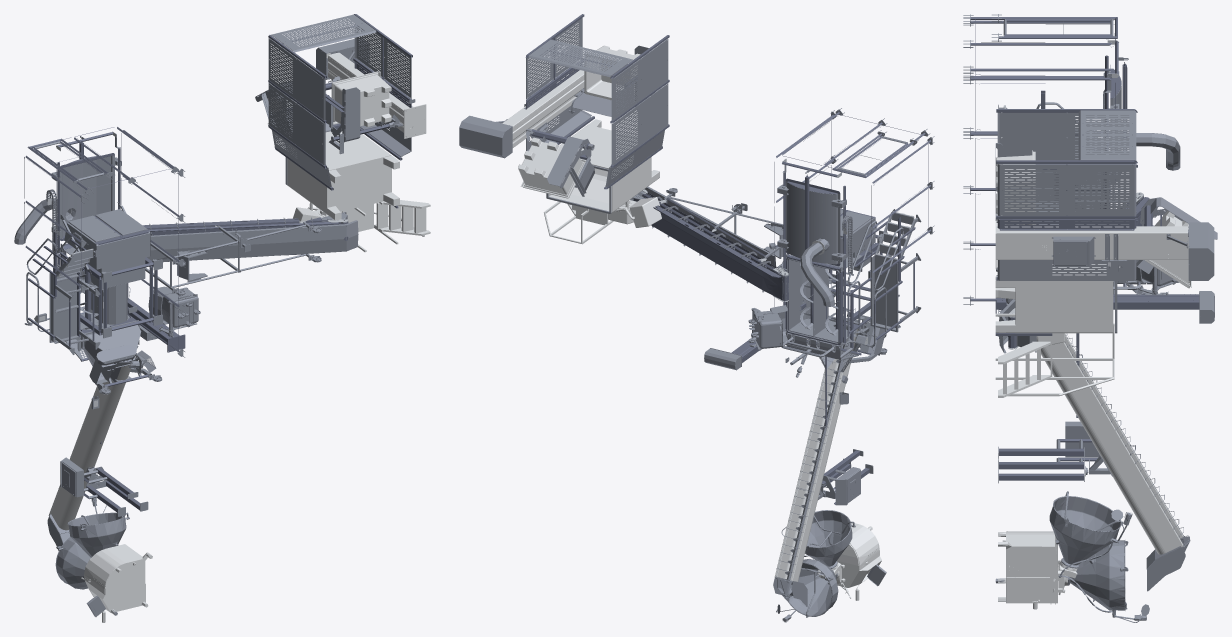
The model's file is linja-keski.glb.
3 renders of one model, left to right at view 1: azimuth 30°, elevation 25°; view 2: azimuth 150°, elevation 25°; view 3: azimuth 270°, elevation 25°, orthographic. The views are drawn at different scales.
Visible parts, largest first — view 1: 00104678/00104675, 00111341/00111340, 00104118/00104173, 00103920/00103985, 00103742/00105726, 00112477/00112183, 00112477/00112123, 00104678/00104677, 00112477/00112008, 00112477/00111841, 00103742/00105533, 00112477/00112264 (+17 smaller); view 2: 00104678/00104675, 00104118/00104173, 00103920/00103927, 00103742/00108393, 00112477/00112183, 00112477/00112123, 00112477/00111352, 00112477/00111838, 00108912/00108909, 00111341/00111340, 00112477/00112264, 00111341/00111337 (+13 smaller); view 3: 00112477/00112008, 00104118/00104173, 00104678/00104675, 00112477/00111352, 00112477/00112123, 00111341/00111340, 00108912/00108909, 00112477/00112264, 00111341/00111337, 00104678/00104677, 00112477/00112428, 00112477/00112009 (+22 smaller).
Part boxes in pixels (x1,y1,x2,y2): 00104678/00104675: (287,131,399,222); 00111341/00111340: (81,544,152,622); 00104118/00104173: (49,364,131,530); 00103920/00103985: (223,224,346,258); 00103742/00105726: (60,155,114,238); 00112477/00112183: (268,82,325,165); 00112477/00112123: (268,38,325,120); 00104678/00104677: (316,200,430,252); 00112477/00112008: (354,24,411,98); 00112477/00111841: (331,71,391,126); 00103742/00105533: (96,231,150,288); 00112477/00112264: (271,14,376,52); 00104678/00104675: (548,119,661,227); 00104118/00104173: (775,328,858,581); 00103920/00103927: (633,191,788,300); 00103742/00108393: (785,182,840,264); 00112477/00112183: (611,83,668,165); 00112477/00112123: (611,39,668,120); 00112477/00111352: (502,69,584,147); 00112477/00111838: (518,137,586,198); 00108912/00108909: (804,510,855,568); 00111341/00111340: (836,512,881,600); 00112477/00112264: (528,39,632,76); 00111341/00111337: (788,559,838,617); 00112477/00112008: (997,164,1136,216); 00104118/00104173: (1036,335,1183,554); 00104678/00104675: (995,262,1113,345); 00112477/00111352: (995,220,1188,269); 00112477/00112123: (997,112,1132,160); 00111341/00111340: (998,531,1067,609); 00108912/00108909: (1049,491,1123,577); 00112477/00112264: (1078,110,1136,160); 00111341/00111337: (1058,540,1128,615); 00104678/00104677: (995,313,1114,397); 00112477/00112428: (997,260,1136,280); 00112477/00112009: (997,219,1136,230).
Bounding box in the file's own units: 9.45 × 12.13 × 4.49.
